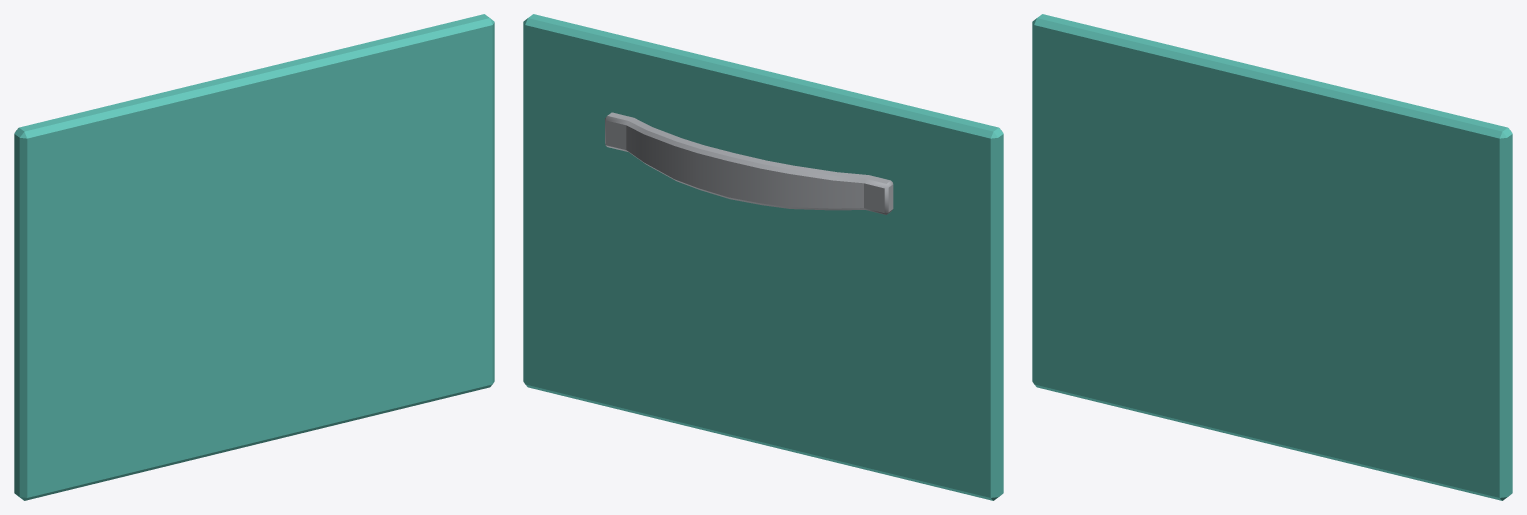
File: Bookcase_door_4.fbx
3 renders of one model, left to right at view 1: azimuth 30°, elevation 25°; view 2: azimuth 150°, elevation 25°; view 3: azimuth 330°, elevation 25°, orthographic.
Visible parts, largest first — view 1: Bookcase_door_4; view 2: Bookcase_door_4; view 3: Bookcase_door_4.
Boxes of the visible parts, box(x1,y1,x2,y2) form: Bookcase_door_4: box(14, 14, 494, 500); Bookcase_door_4: box(523, 14, 1003, 500); Bookcase_door_4: box(1032, 14, 1512, 500).
Bounding box in the file's own units: 0.4975 × 0.3696 × 0.0655.
